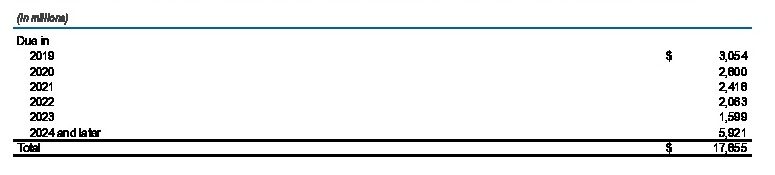table: (0, 0, 775, 175)
